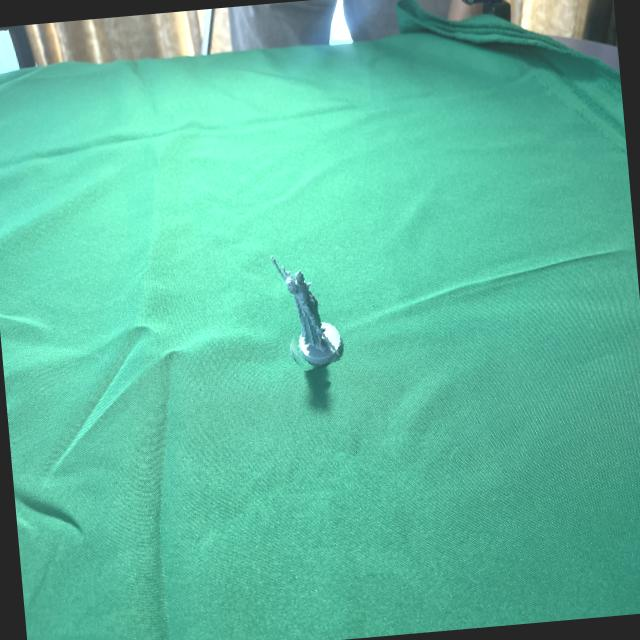isis_follower: (268, 235, 342, 372)
